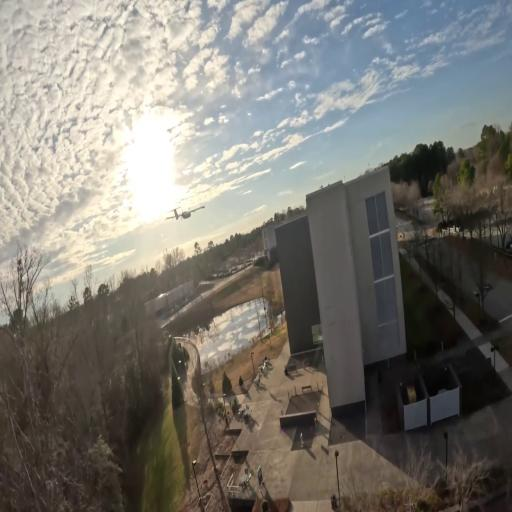uav: (163, 204, 206, 224)
